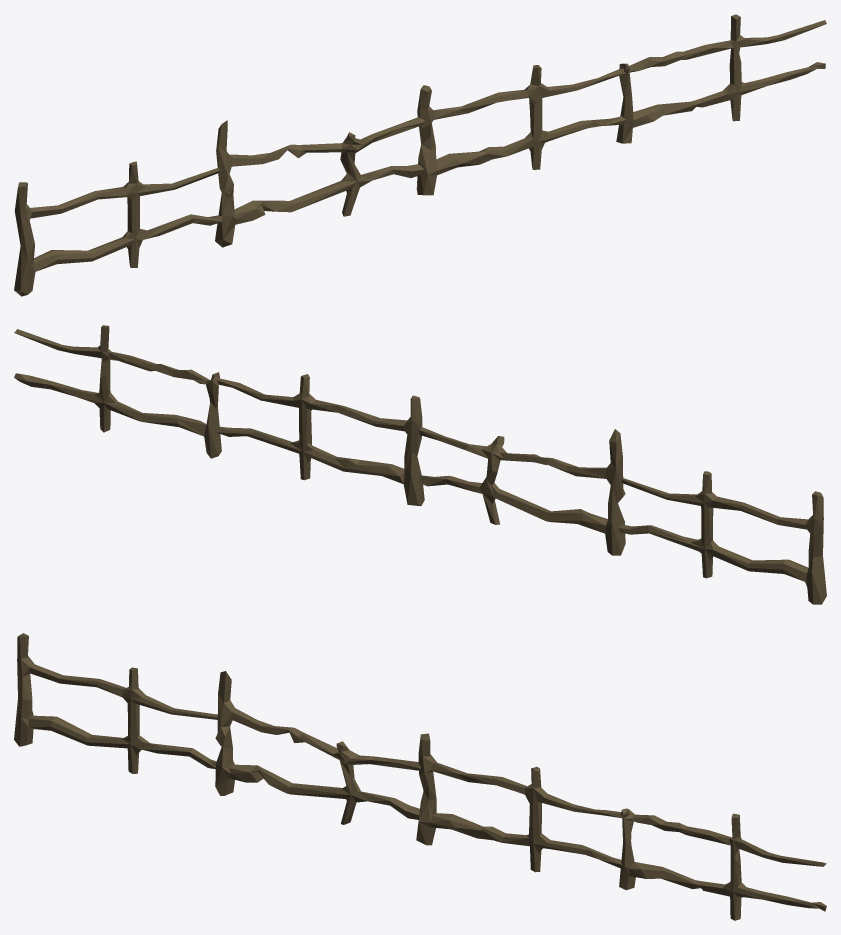
The model's file is Zaun.fbx.
The picture shows the model from 3 angles, top to bottom: view 1: azimuth 30°, elevation 25°; view 2: azimuth 150°, elevation 25°; view 3: azimuth 330°, elevation 25°; orthographic projection.
Visible parts, largest first — view 1: Cube.001, Cube, Cube.002, Cube.003; view 2: Cube.002, Cube, Cube.001, Cube.003; view 3: Cube.001, Cube, Cube.002, Cube.003.
Boxes of the visible parts, x1,y1,x2,y2 form: Cube.001: [215, 117, 424, 247]; Cube: [14, 161, 221, 296]; Cube.002: [416, 65, 626, 195]; Cube.003: [616, 14, 826, 143]; Cube.002: [217, 374, 424, 506]; Cube: [618, 471, 826, 604]; Cube.001: [418, 427, 625, 555]; Cube.003: [14, 325, 221, 458]; Cube.001: [215, 671, 420, 824]; Cube: [14, 633, 218, 773]; Cube.002: [416, 733, 622, 872]; Cube.003: [619, 808, 826, 920].
Size of the model in its own units: 191 by 28.36 by 4.55.
